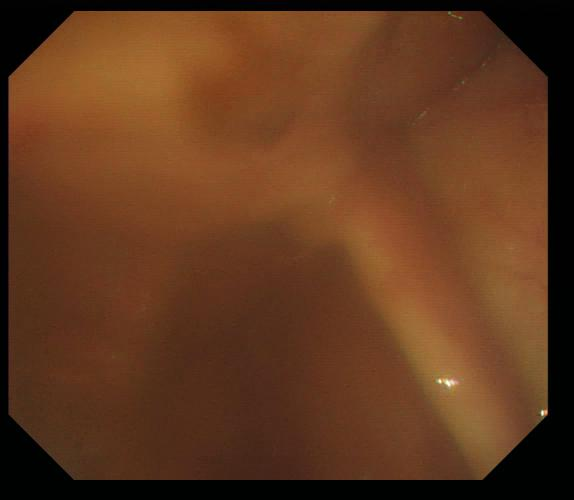polyp: (289, 196, 347, 248)
